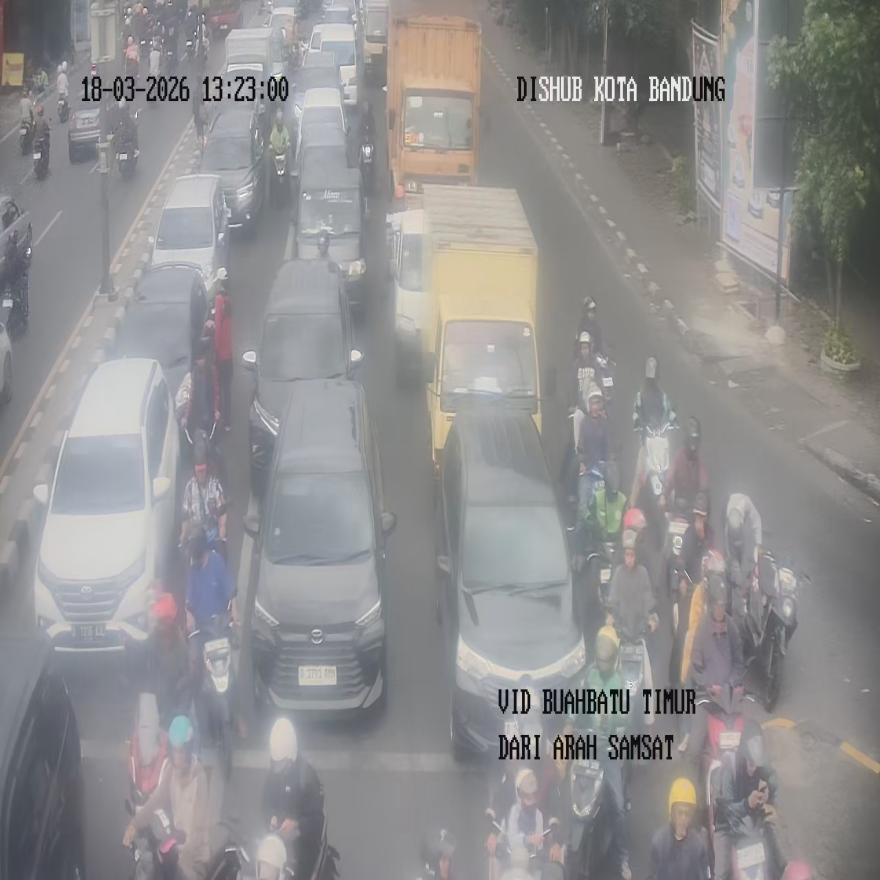Mobil: (435, 410, 587, 763), (245, 379, 396, 714), (32, 358, 178, 656), (242, 258, 363, 486), (0, 628, 87, 878), (148, 173, 230, 302)
Truk berat: (385, 14, 483, 197)
Truk ringan: (423, 186, 548, 481)
